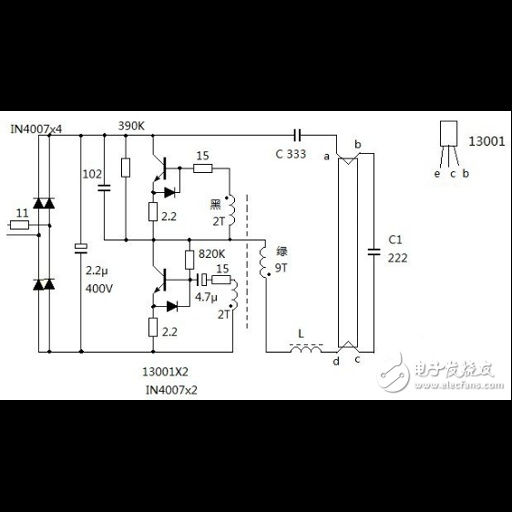capacitor: (363, 244, 384, 258), (290, 128, 305, 144), (95, 182, 113, 195)
firstdiode: (164, 296, 180, 314), (29, 276, 44, 294), (160, 186, 178, 200), (30, 195, 44, 212), (44, 276, 58, 291), (44, 195, 56, 210)
firstresistance: (118, 155, 133, 181), (182, 247, 196, 272), (145, 316, 160, 339), (210, 272, 233, 286), (145, 200, 159, 223), (8, 219, 32, 232), (190, 162, 214, 175)
inductor: (287, 345, 324, 357)
npn: (147, 261, 170, 294)
transformer: (228, 187, 268, 323)
